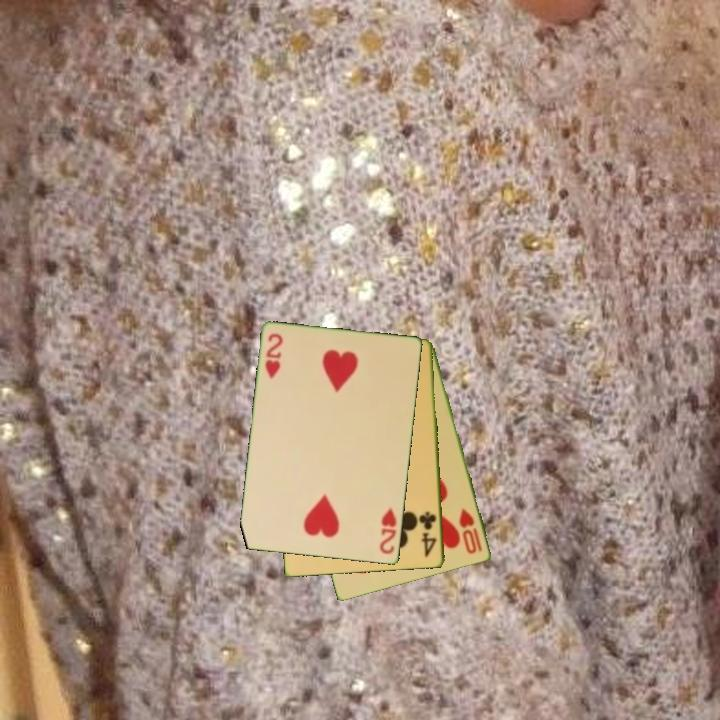10h: (456, 505, 485, 557)
2h: (262, 330, 286, 382), (377, 504, 399, 557)
4c: (416, 509, 440, 560)
